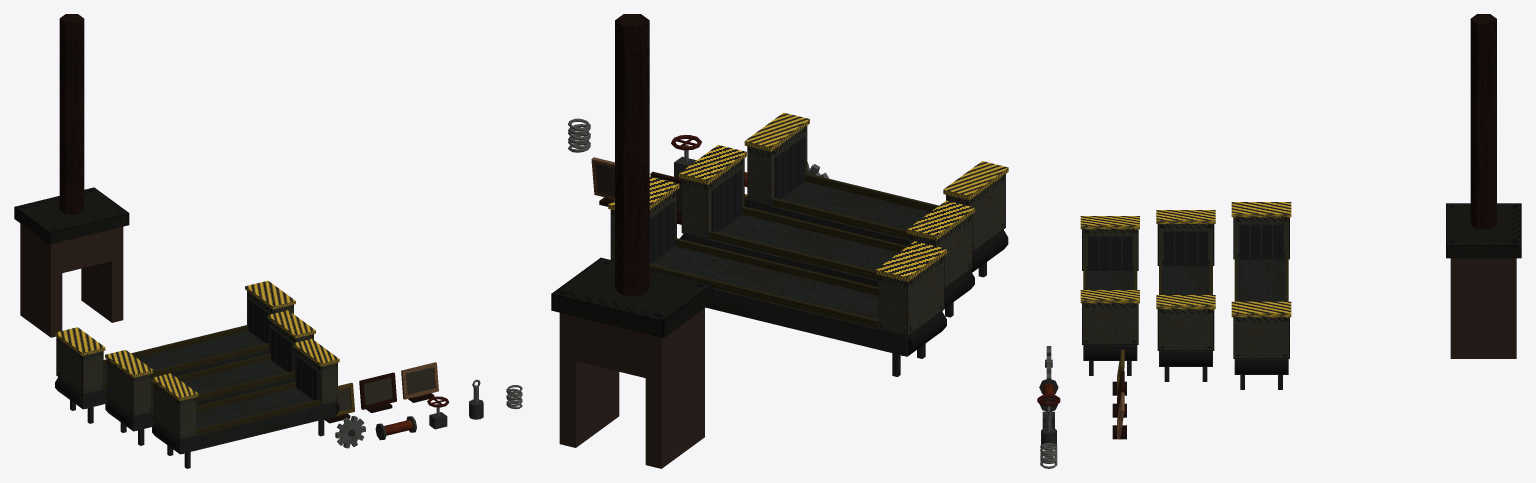
Rendered from incinerator.glb.
3 views of the same model, side by side, from view 1: azimuth 30°, elevation 25°; view 2: azimuth 150°, elevation 25°; view 3: azimuth 270°, elevation 25° (orthographic). The views are drawn at different scales.
Visible parts, largest first — view 1: furnace, conveyor_390, conveyor_530, conveyor_450, art_1, art_2, gear_spin, art_0, part_pipe; view 2: furnace, conveyor_530, conveyor_450, conveyor_390, art_2, part_spring, part_valve; view 3: furnace, conveyor_530, conveyor_450, conveyor_390.
Boxes of the visible parts, box(x1,y1,x2,y2) form: furnace: box(14, 14, 129, 337); conveyor_390: box(151, 338, 339, 468); conveyor_530: box(54, 280, 295, 423); conveyor_450: box(105, 310, 315, 445); art_1: box(359, 372, 396, 412); art_2: box(401, 362, 438, 402); gear_spin: box(335, 416, 365, 448); art_0: box(324, 382, 354, 423); part_pipe: box(375, 416, 416, 440); furnace: box(551, 14, 713, 468); conveyor_530: box(608, 176, 946, 376); conveyor_450: box(679, 145, 975, 317); conveyor_390: box(744, 112, 1008, 277); art_2: box(591, 157, 614, 206); part_spring: box(568, 118, 590, 152); part_valve: box(671, 135, 701, 178); furnace: box(1446, 14, 1521, 358); conveyor_530: box(1231, 202, 1291, 389); conveyor_450: box(1156, 210, 1215, 381); conveyor_390: box(1080, 216, 1139, 375).
Bounding box in the file's own units: 9.33 × 7.5 × 10.24.
18 materials, 15 textured.
